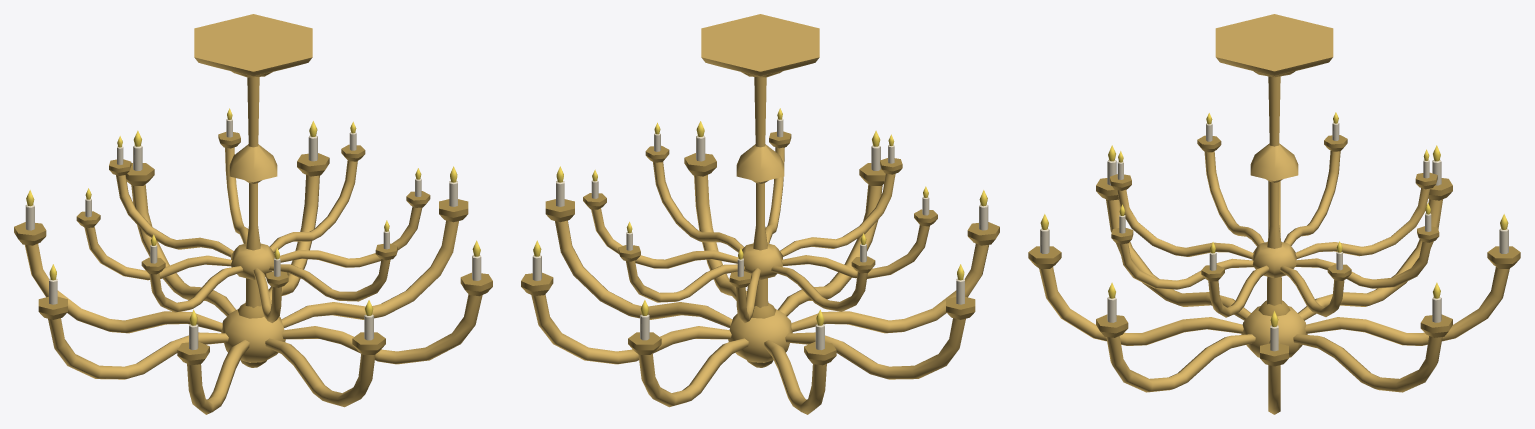
The model's file is DiningChandelier.fbx.
The picture shows the model from 3 angles, left to right: view 1: azimuth 30°, elevation 25°; view 2: azimuth 150°, elevation 25°; view 3: azimuth 270°, elevation 25°; orthographic projection.
Visible parts, largest first — view 1: Chandelier:LargeChandelier; view 2: Chandelier:LargeChandelier; view 3: Chandelier:LargeChandelier.
Boxes of the visible parts, bbox=[...] form: Chandelier:LargeChandelier: bbox=[14, 14, 492, 414]; Chandelier:LargeChandelier: bbox=[521, 14, 999, 414]; Chandelier:LargeChandelier: bbox=[1028, 14, 1520, 414].
Size of the model in its own units: 308 by 222 by 308.
